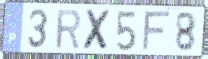3: (26, 8, 51, 51)
5: (115, 9, 139, 52)
8: (174, 11, 198, 53)
F: (141, 9, 173, 53)
R: (55, 8, 82, 51)
X: (81, 8, 113, 52)
